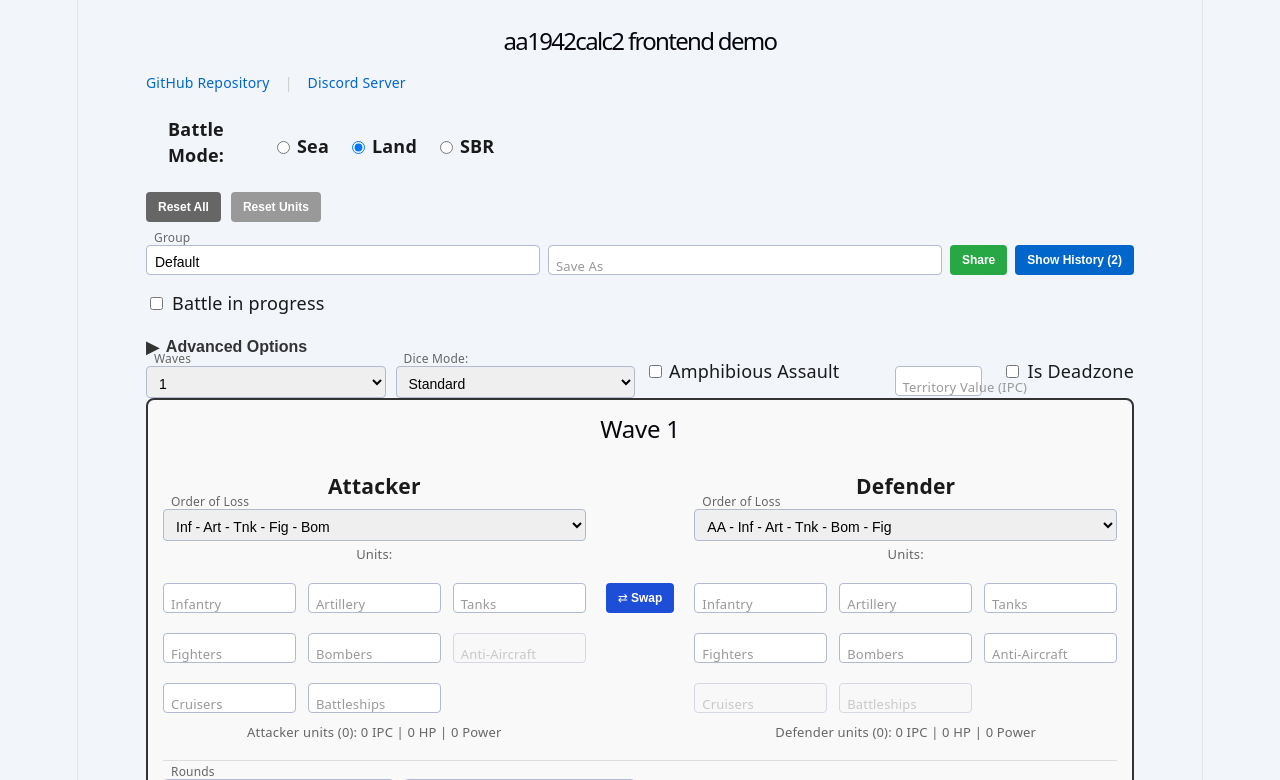
grouped history › batch-evaluates every saved setting in a group against the current armies
Click the radio button labelled "SBR" at (446, 148), box [440,141,453,154]
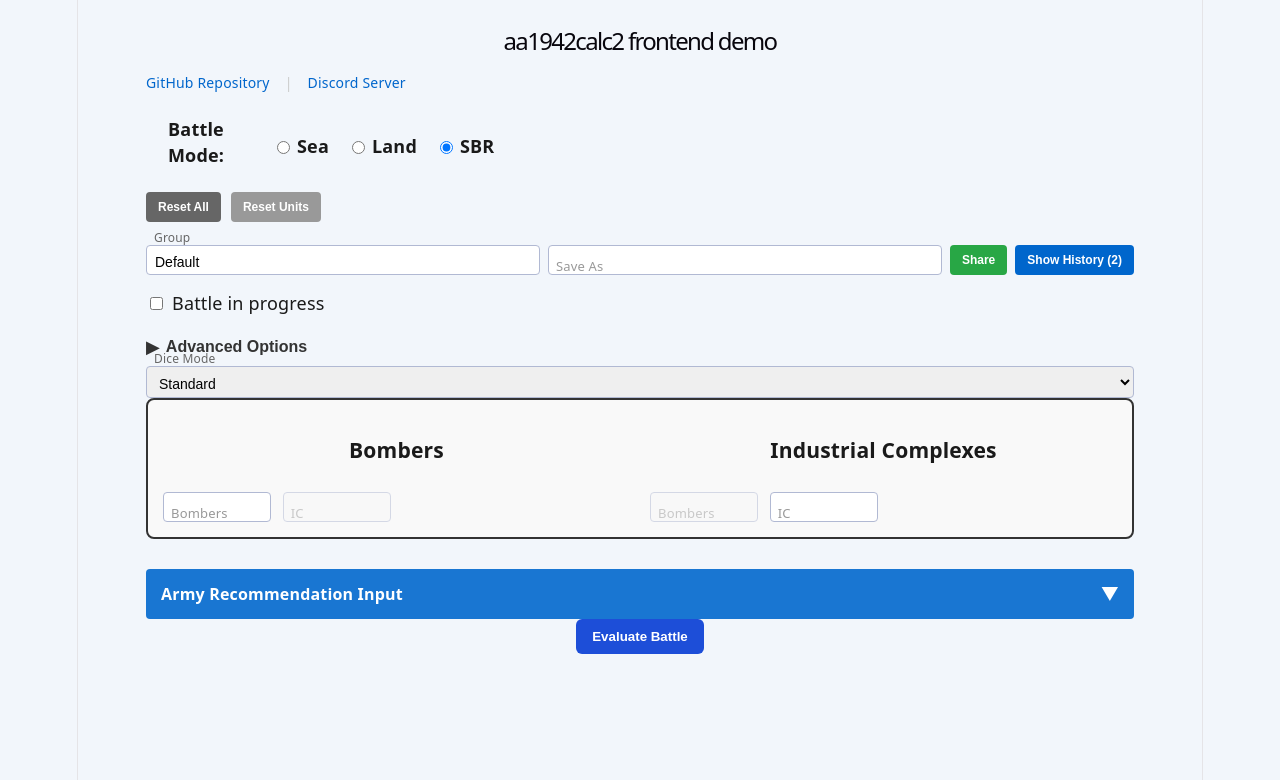
Check: the element showing "Bombers Bombers IC Industrial Complexes Bombers IC" is shown, box [146,398,1134,539]
Type "5" into the 1st number field at (217, 507), box [163,492,271,522]
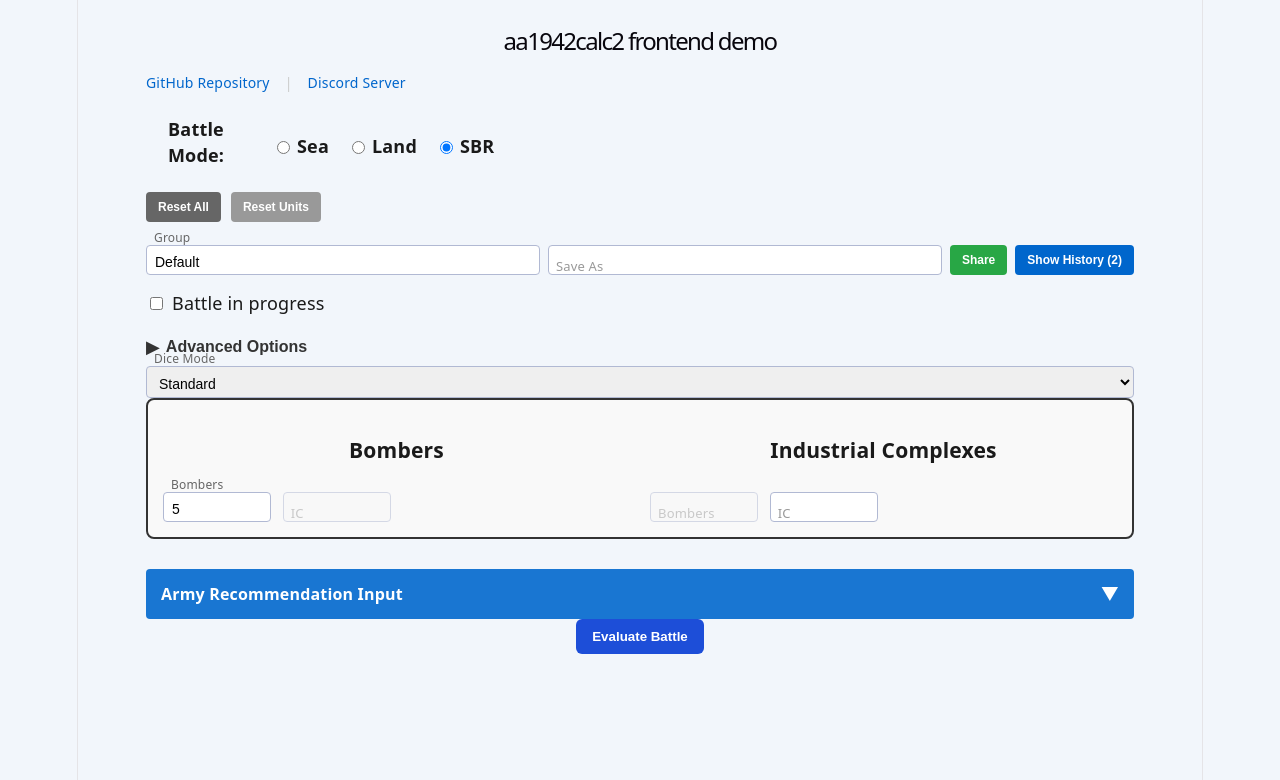
Type "1" into the 4th number field at (824, 507), box [770,492,878,522]
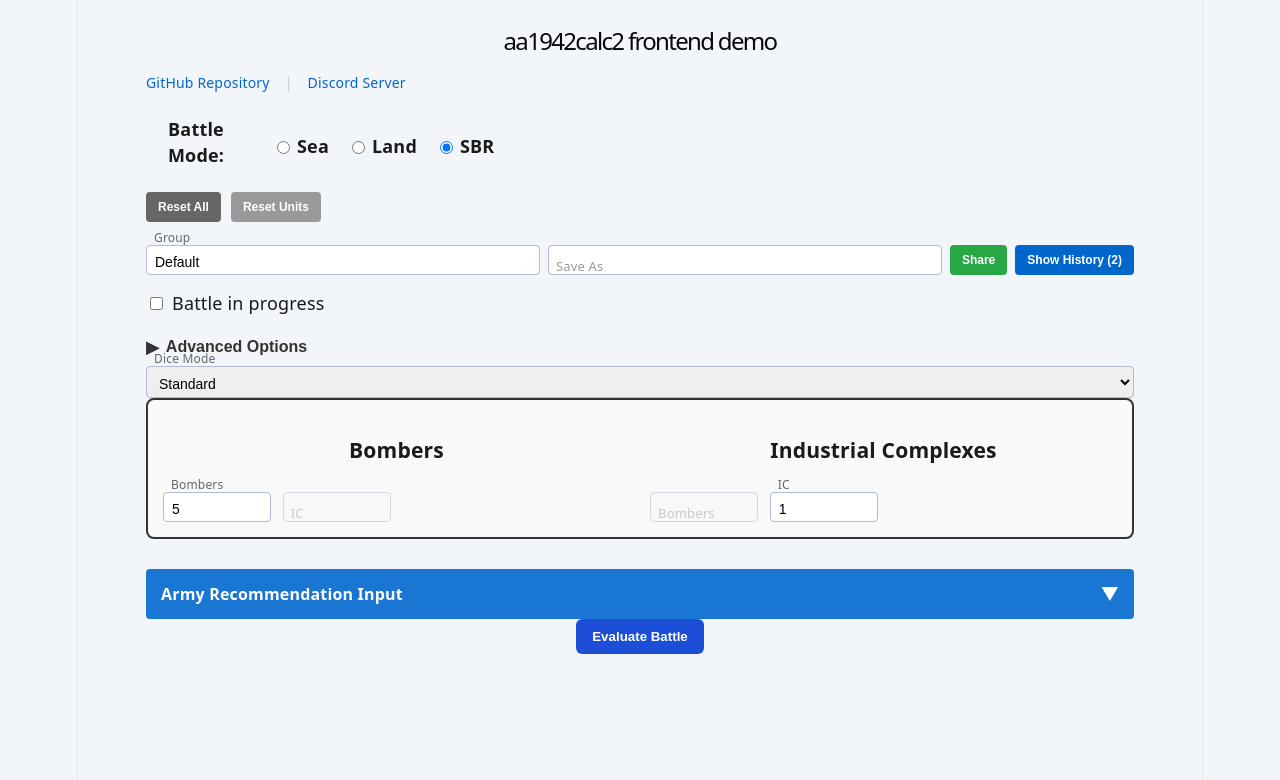
Click the button "Show History (2)" at (1075, 260), box [1015,245,1134,275]
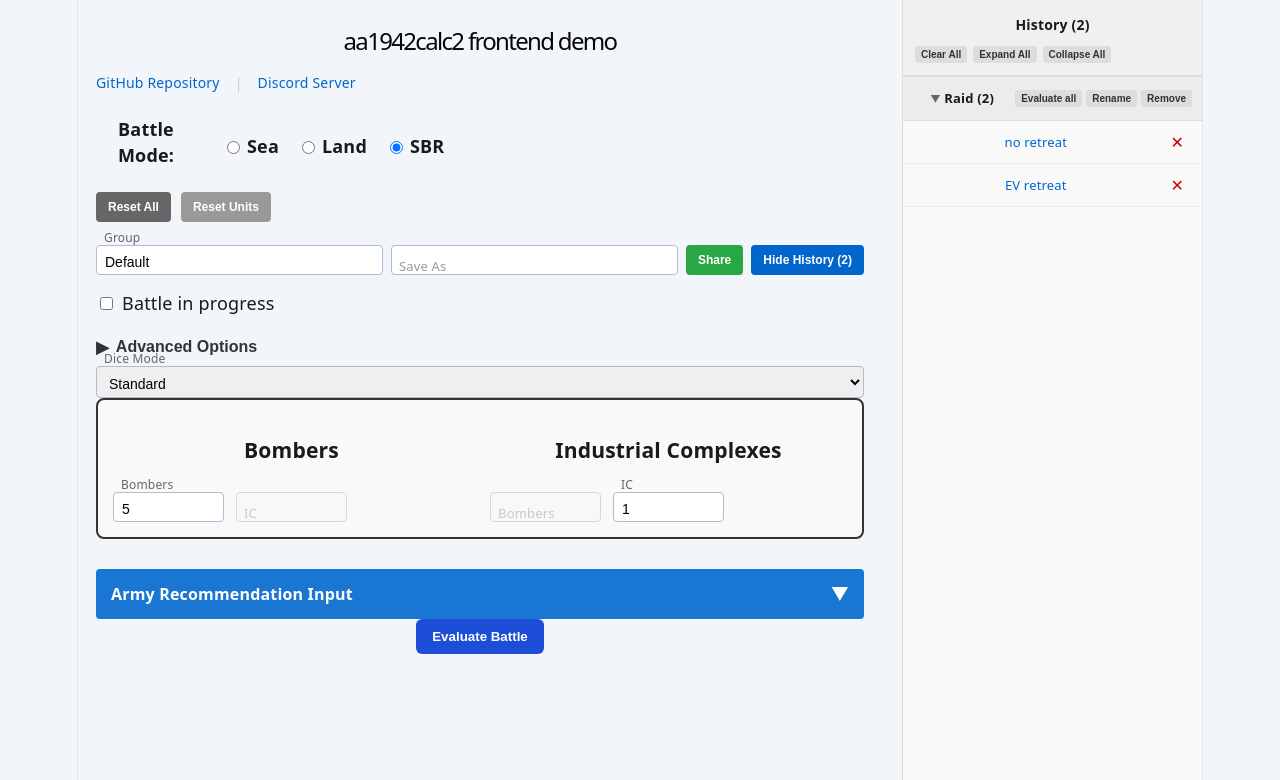
Click the button "Evaluate all" at (1049, 99), box [1015,90,1082,107]
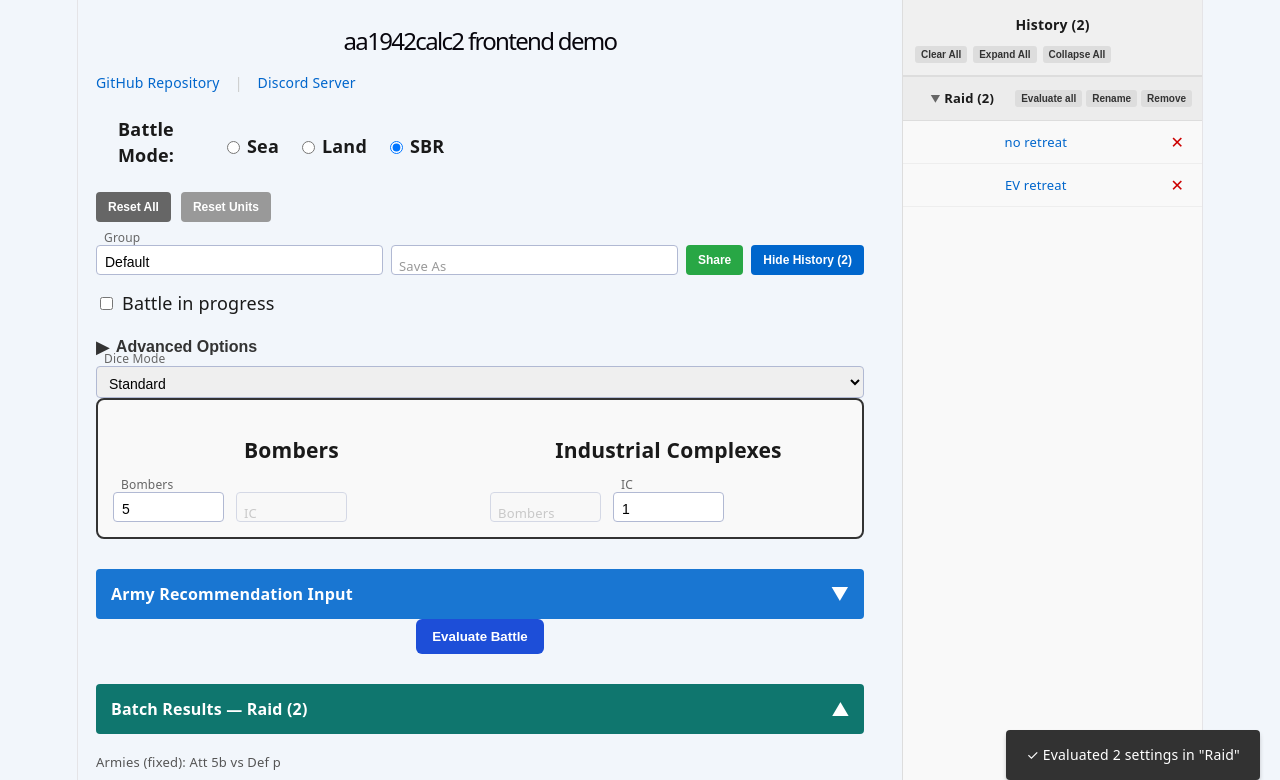
Check: the text "Armies (fixed): Att 5b vs Def p" is shown, box [96,753,281,771]
